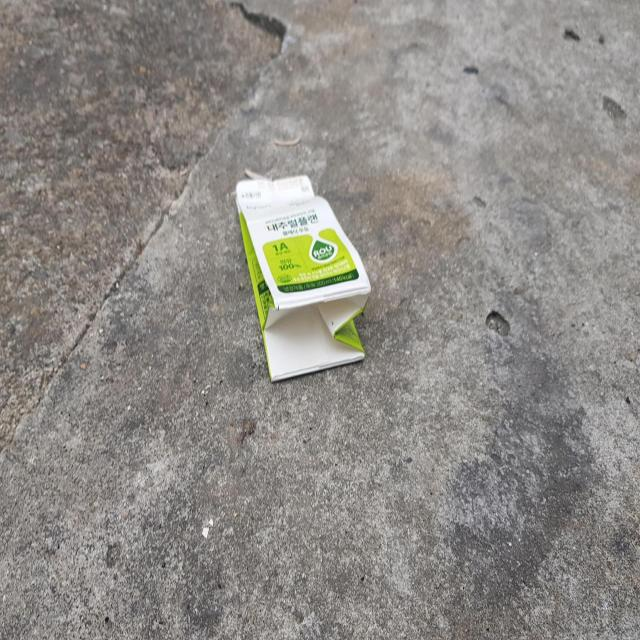paperpack: (236, 174, 371, 381)
